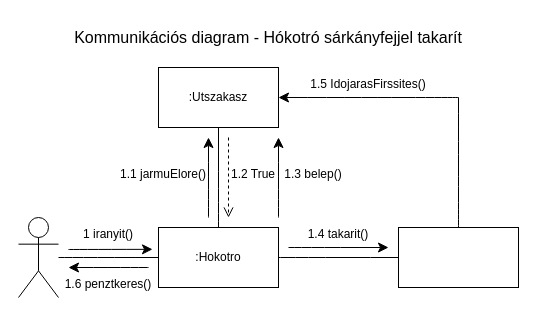
Image size: 536x335. Some labels were removed from this diagram. The centre of each missing label's shape, as x and y in pixels:
": Sárkányfej" goes at pixel 458 257.
"Takarito" goes at pixel 38 257.
